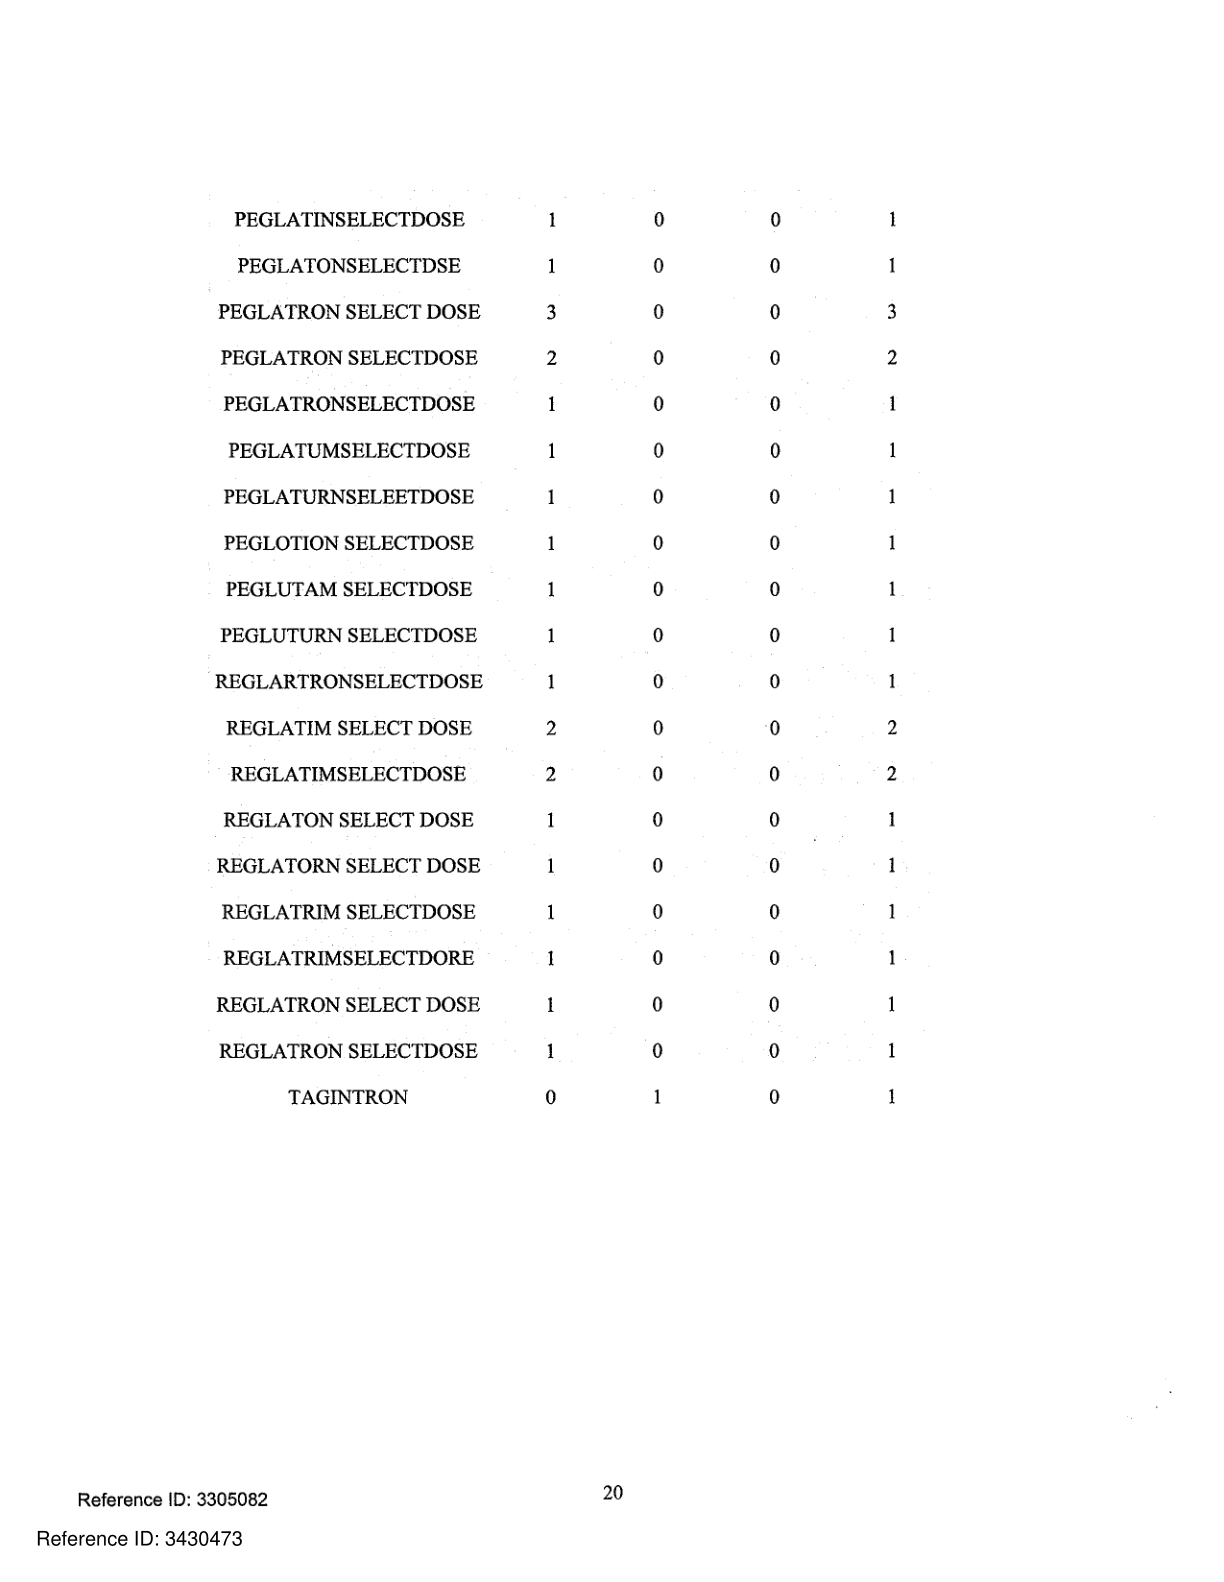nolines: (213, 207, 908, 1115)
